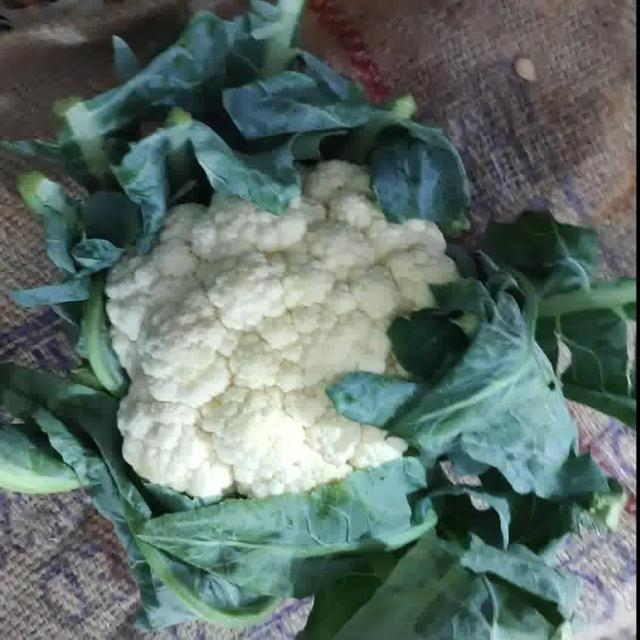Cauliflower: (106, 153, 461, 502)
